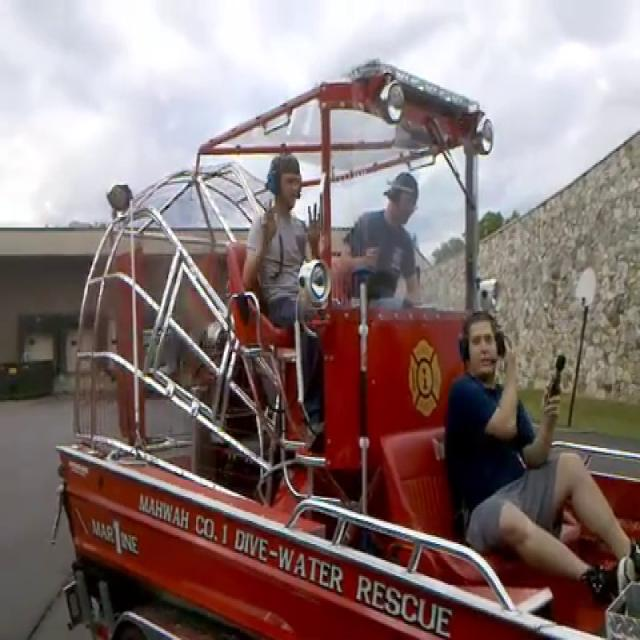earmuff: (490, 328, 511, 363), (454, 331, 471, 366), (263, 168, 284, 196)
